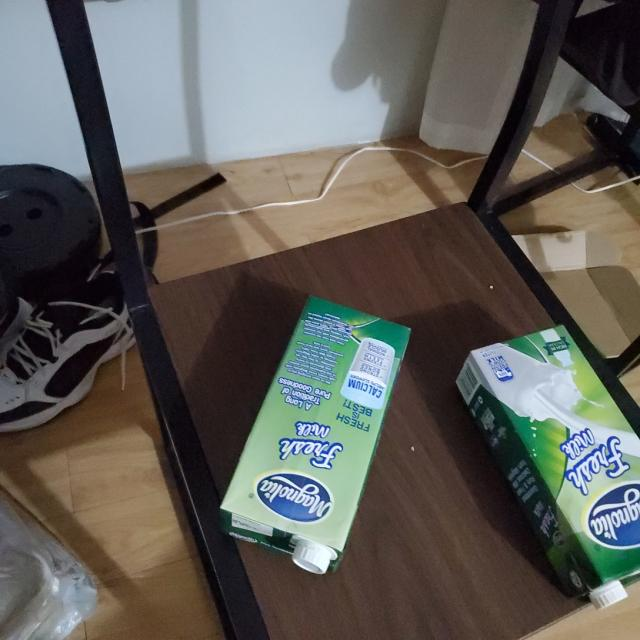milk: (216, 291, 412, 574), (457, 318, 640, 604)
